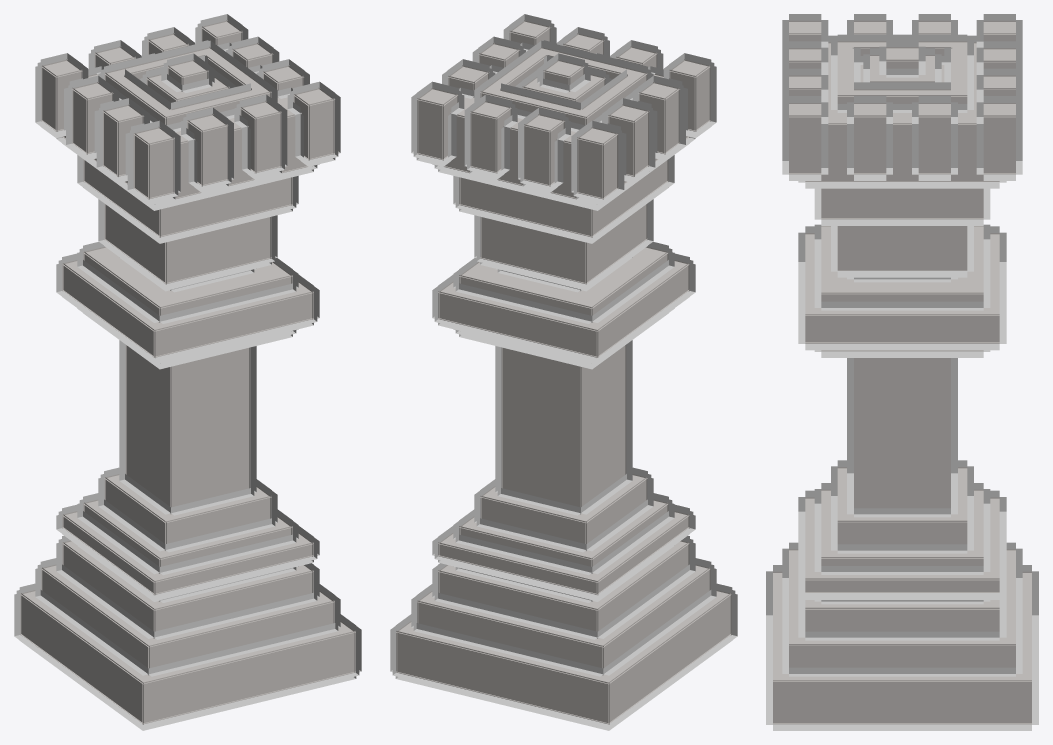
The model's file is white-queen.glb.
3 views of the same model, side by side, from view 1: azimuth 30°, elevation 25°; view 2: azimuth 150°, elevation 25°; view 3: azimuth 270°, elevation 25° (orthographic). The views are drawn at different scales.
Visible parts, largest first — view 1: chess-queen-white_model; view 2: chess-queen-white_model; view 3: chess-queen-white_model.
Boxes of the visible parts, bbox=[...] form: chess-queen-white_model: bbox=[14, 14, 361, 730]; chess-queen-white_model: bbox=[390, 14, 737, 730]; chess-queen-white_model: bbox=[766, 14, 1038, 730].
Bounding box in the file's own units: 1.68 × 4.28 × 1.68.
Materials: 2 (1 with a texture image).
